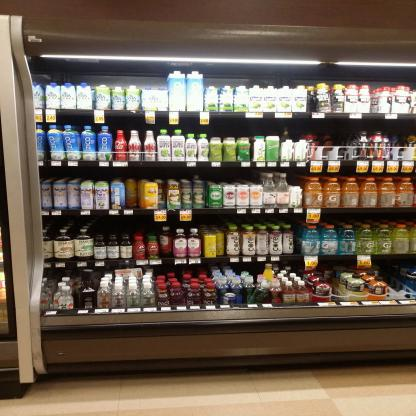Void: (386, 272, 405, 300), (334, 124, 349, 158), (100, 219, 130, 229)
